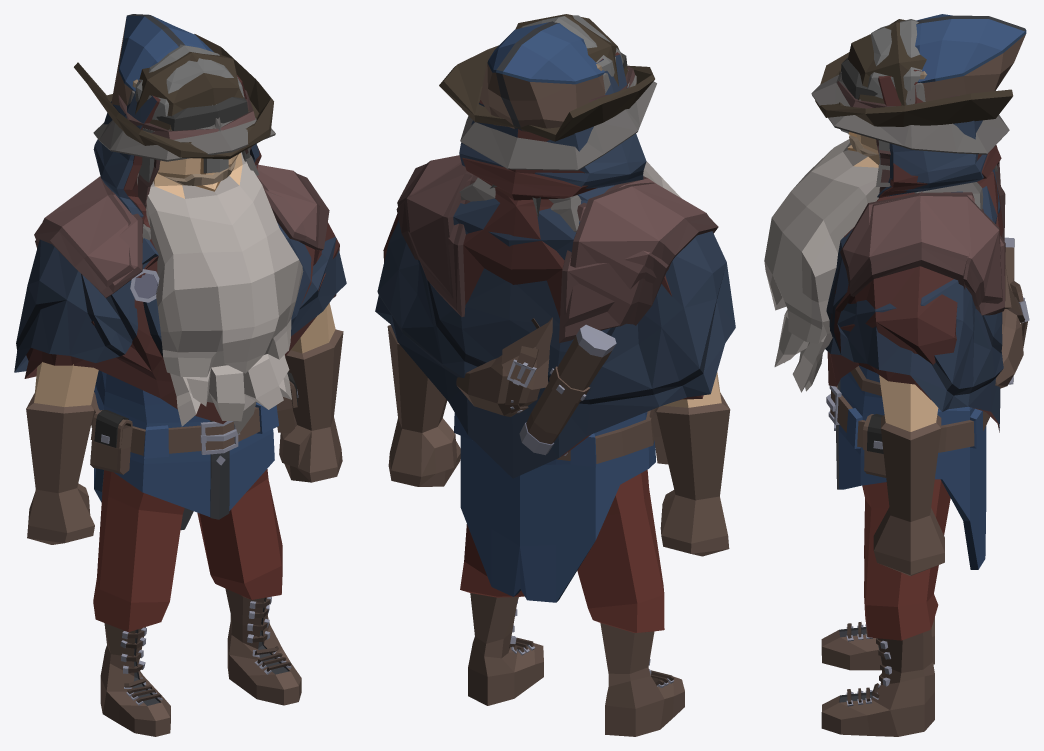
The model's file is HATS_Mage_male.fbx.
3 views of the same model, side by side, from view 1: azimuth 30°, elevation 25°; view 2: azimuth 150°, elevation 25°; view 3: azimuth 270°, elevation 25° (orthographic). The views are drawn at different scales.
Visible parts, largest first — view 1: mage_05a_hats:mage_body, mage_05a_hats:shall2, mage_05a_hats:shall1, mage_05a_hats:huntershat, mage_05a_hats:mage_hat, mage_05a_hats:pothelm, mage_05a_hats:chailm_helm, mage_05a_hats:bandana; view 2: mage_05a_hats:mage_body, mage_05a_hats:shall2, mage_05a_hats:shall1, mage_05a_hats:mage_hat, mage_05a_hats:huntershat, mage_05a_hats:pothelm, mage_05a_hats:chailm_helm; view 3: mage_05a_hats:mage_body, mage_05a_hats:shall2, mage_05a_hats:shall1, mage_05a_hats:mage_hat, mage_05a_hats:huntershat, mage_05a_hats:pothelm, mage_05a_hats:chailm_helm, mage_05a_hats:bandana.
Boxes of the visible parts, x1,y1,x2,y2 form: mage_05a_hats:mage_body: (26, 152, 343, 736); mage_05a_hats:shall2: (14, 81, 346, 372); mage_05a_hats:shall1: (24, 75, 339, 423); mage_05a_hats:huntershat: (74, 34, 273, 159); mage_05a_hats:mage_hat: (111, 14, 213, 105); mage_05a_hats:pothelm: (93, 90, 275, 208); mage_05a_hats:chailm_helm: (135, 44, 276, 240); mage_05a_hats:bandana: (156, 97, 248, 130); mage_05a_hats:mage_body: (387, 161, 730, 736); mage_05a_hats:shall2: (375, 54, 735, 478); mage_05a_hats:shall1: (383, 52, 703, 456); mage_05a_hats:mage_hat: (479, 21, 605, 132); mage_05a_hats:huntershat: (439, 14, 654, 141); mage_05a_hats:pothelm: (460, 69, 656, 170); mage_05a_hats:chailm_helm: (459, 15, 629, 232); mage_05a_hats:mage_body: (764, 132, 1029, 736); mage_05a_hats:shall2: (825, 120, 1003, 430); mage_05a_hats:shall1: (827, 69, 1005, 432); mage_05a_hats:mage_hat: (915, 14, 1026, 101); mage_05a_hats:huntershat: (815, 19, 1013, 126); mage_05a_hats:pothelm: (811, 60, 1009, 192); mage_05a_hats:chailm_helm: (840, 19, 983, 216); mage_05a_hats:bandana: (841, 58, 999, 171).
Bounding box in the file's own units: 473 × 918 × 327.
